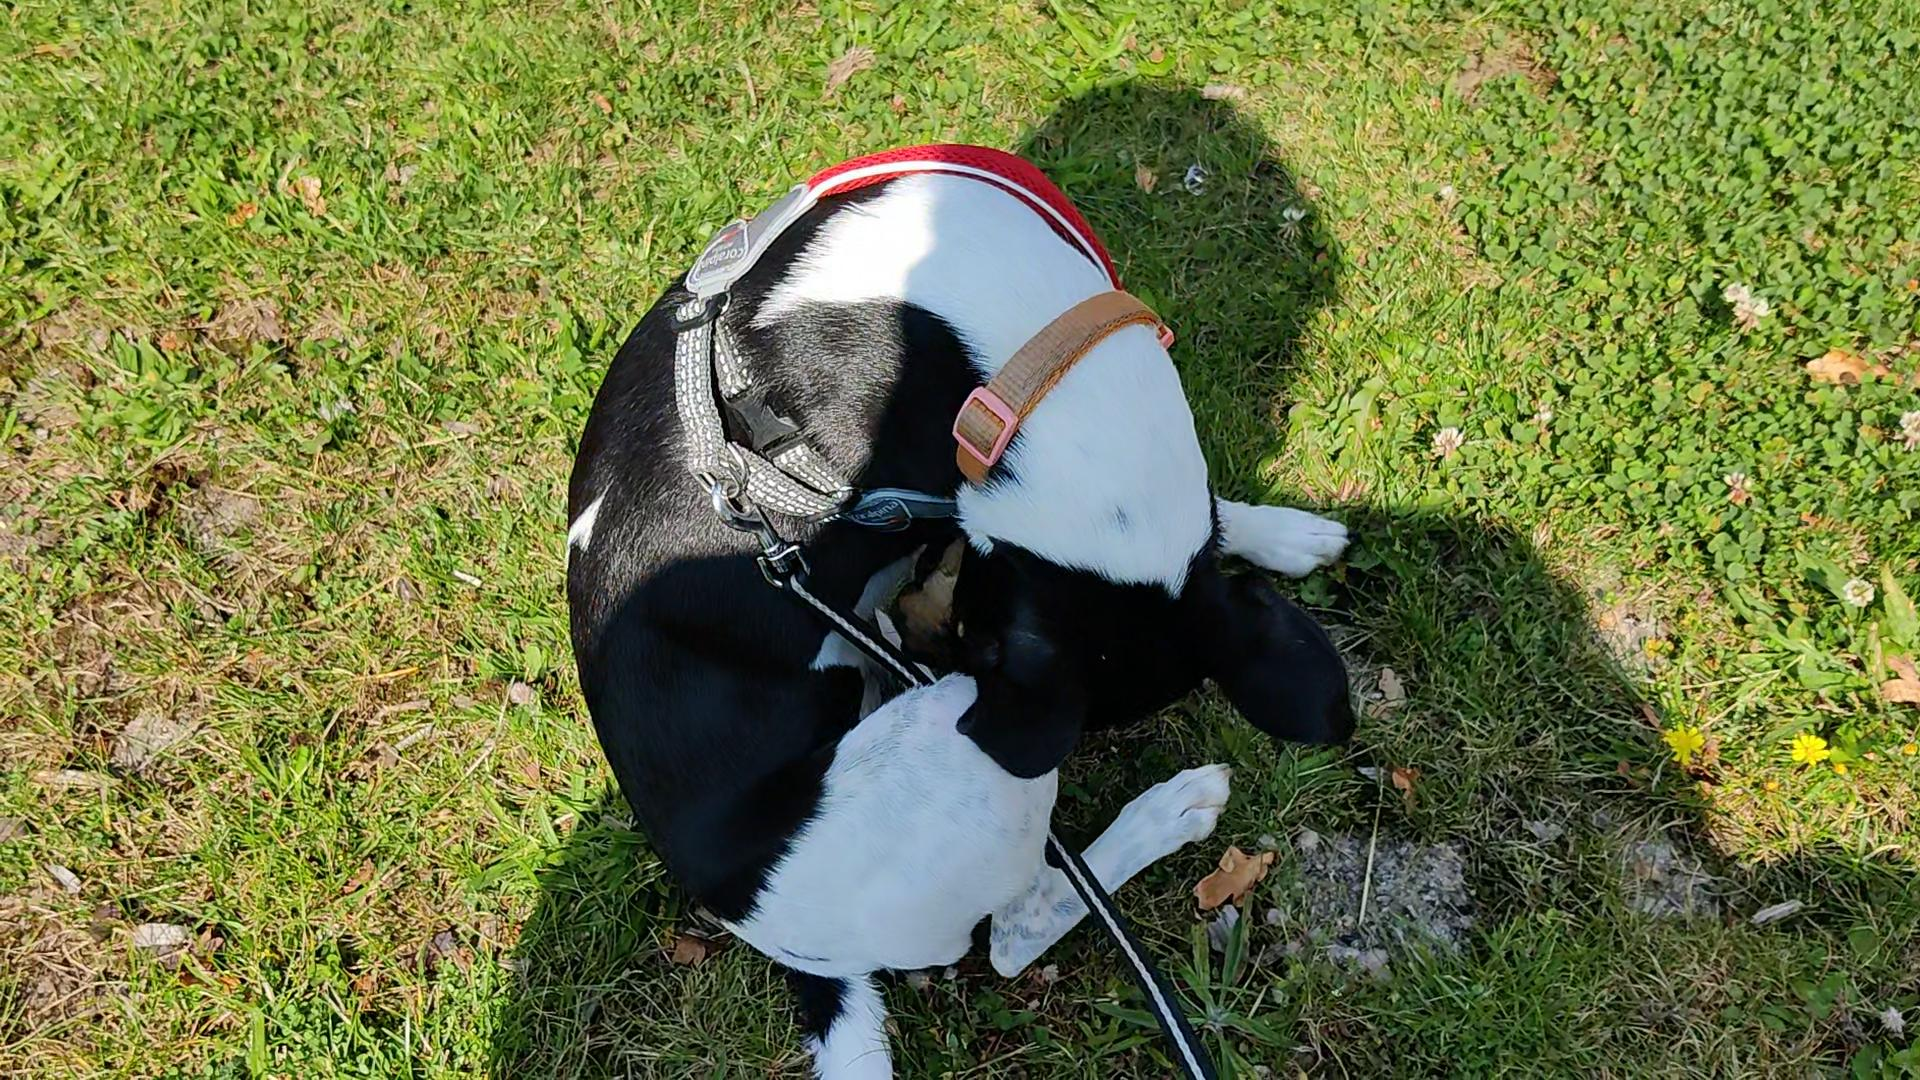Dog: (560, 131, 1360, 1079)
